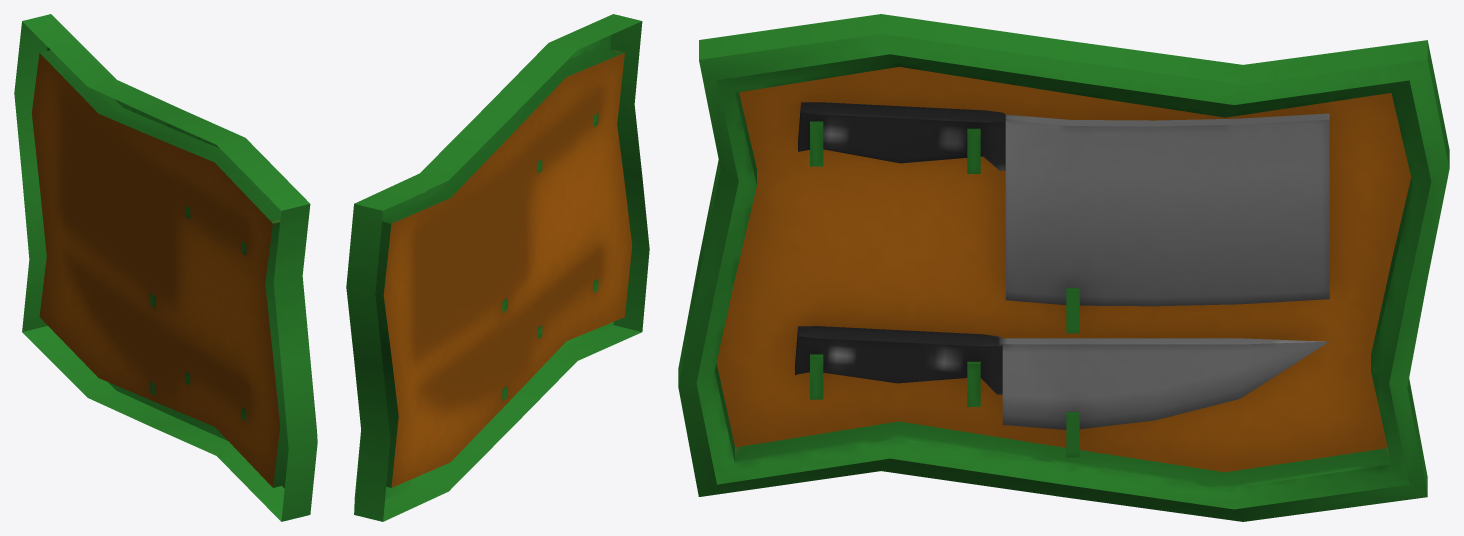
Rendered from PROP_093_KnifeRack.fbx.
3 renders of one model, left to right at view 1: azimuth 30°, elevation 25°; view 2: azimuth 150°, elevation 25°; view 3: azimuth 270°, elevation 25°, orthographic. The views are drawn at different scales.
Parts seen in each view (by area): view 1: Cube_005; view 2: Cube_005; view 3: Cube_005.
Boxes of the visible parts, <box> form: Cube_005: <box>14,14,317,521</box>; Cube_005: <box>346,14,649,521</box>; Cube_005: <box>678,14,1449,521</box>.
Bounding box in the file's own units: 0.045 × 0.4297 × 0.6152.
Materials: 1 (1 with a texture image).
